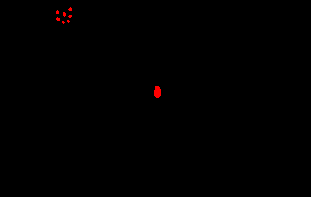Target: (154, 86, 161, 98), (68, 7, 72, 11), (56, 17, 60, 21), (63, 12, 66, 17), (56, 10, 59, 14), (68, 15, 72, 18), (67, 20, 70, 23), (62, 21, 65, 24)
